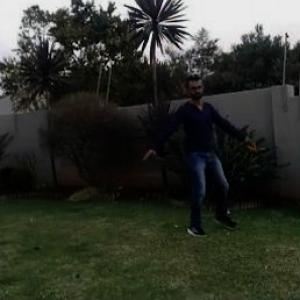land: (122, 71, 261, 241)
